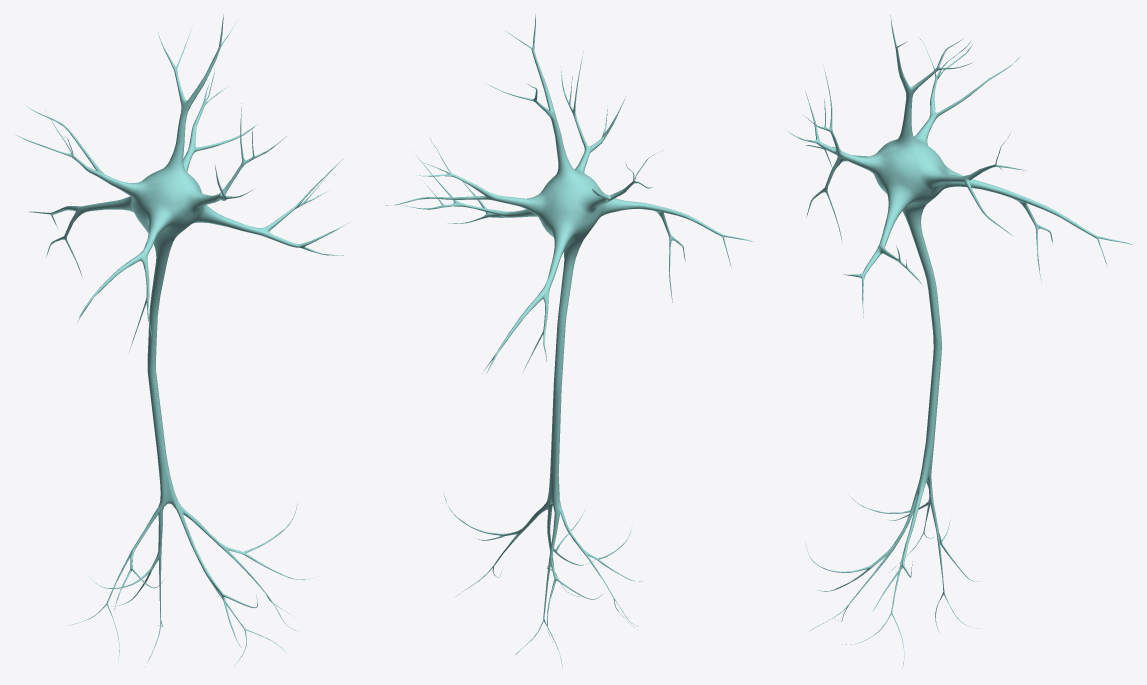
File: neuron.glb
The picture shows the model from 3 angles, left to right: view 1: azimuth 30°, elevation 25°; view 2: azimuth 150°, elevation 25°; view 3: azimuth 270°, elevation 25°; orthographic projection. The views are drawn at different scales.
Parts seen in each view (by area): view 1: Neuron_0; view 2: Neuron_0; view 3: Neuron_0.
Boxes of the visible parts, left/top/right/bottom form: Neuron_0: left=15, top=14, right=349, bottom=668; Neuron_0: left=385, top=14, right=754, bottom=669; Neuron_0: left=785, top=15, right=1131, bottom=667.
Size of the model in its own units: 0.3895 by 0.7749 by 0.3787.
